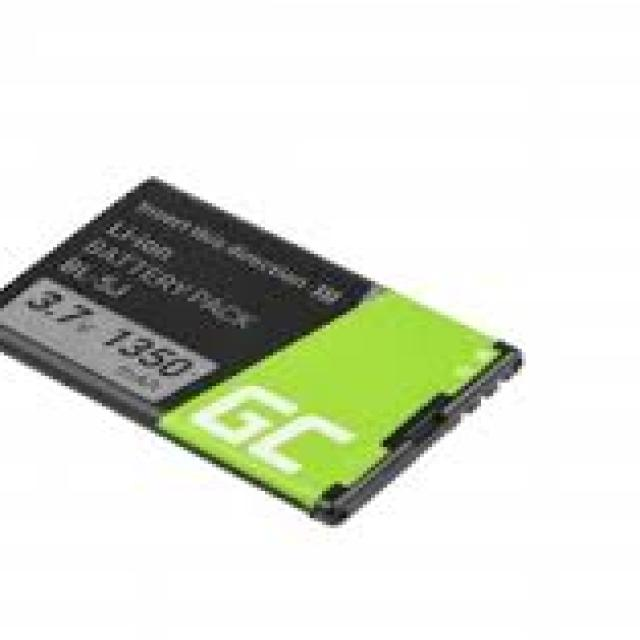organic: (7, 172, 518, 515)
